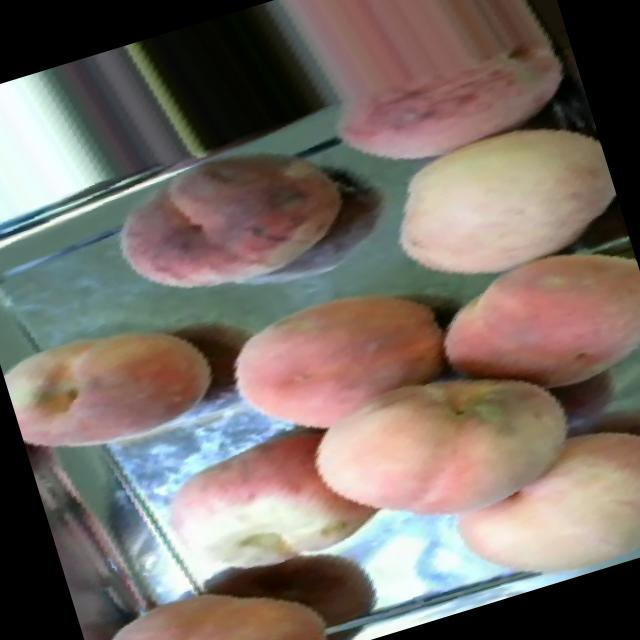Fruit: (278, 314, 608, 576), (240, 0, 590, 198), (90, 106, 382, 334), (132, 404, 400, 624), (201, 245, 480, 453), (354, 99, 628, 302), (404, 228, 640, 449), (423, 385, 640, 609), (0, 285, 238, 483), (72, 531, 348, 640)
